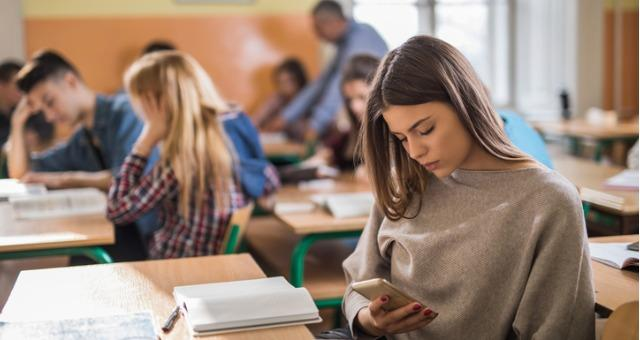phone: (345, 33, 591, 340)
study: (2, 49, 116, 218)
